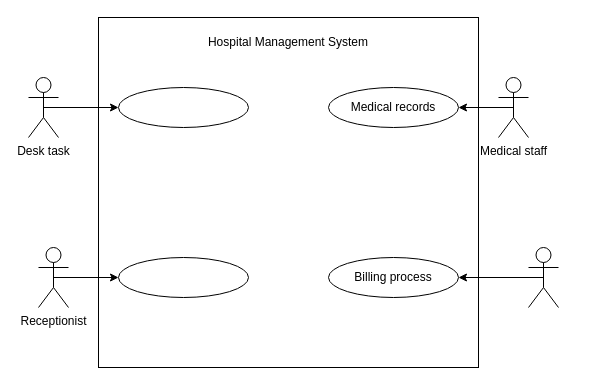
Some shapes in this 609 by 385 pixel diagram are drawn without their labels. The shapes that lost their labels are listed below. From the top down, each one's centre as x and y in pixels, then its label:
At (x=183, y=107): "Patient admission".
At (x=183, y=277): "Appointments".
At (x=543, y=277): "Billing department".
